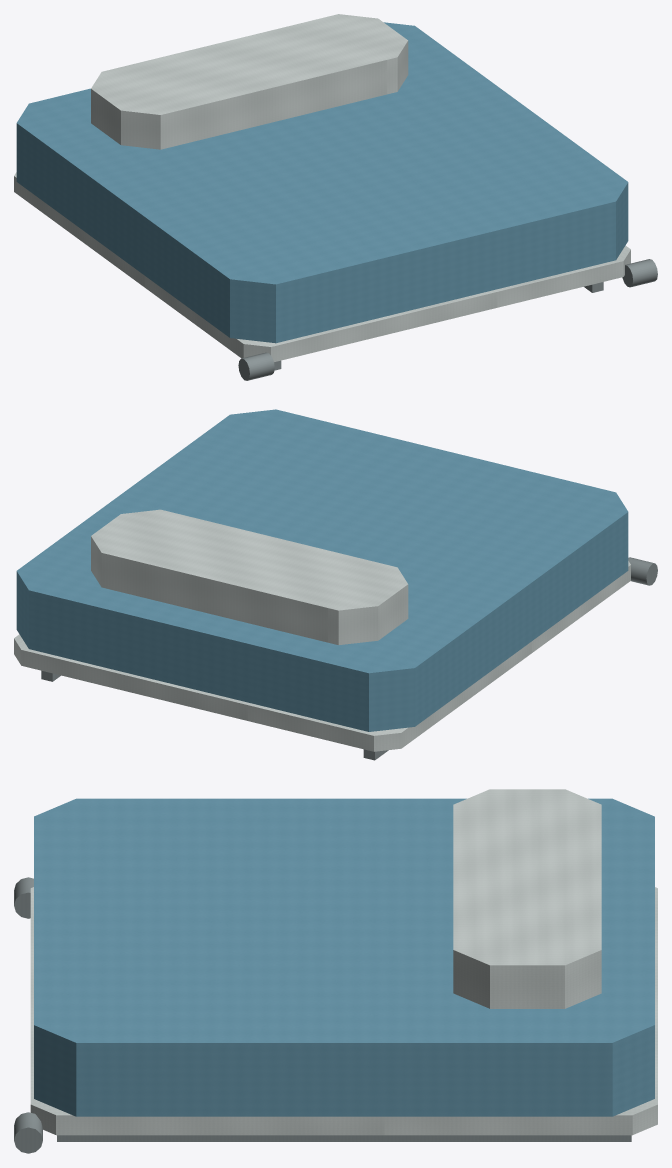
The model's file is PZ_LUCENT_H220_Backrest_LOCAL_HINGE.glb.
The picture shows the model from 3 angles, top to bottom: view 1: azimuth 30°, elevation 25°; view 2: azimuth 150°, elevation 25°; view 3: azimuth 270°, elevation 25°; orthographic projection. The views are drawn at different scales.
Parts seen in each view (by area): view 1: BED_Backrest_Mattress, BED_HeadPillow, BED_Backrest_SupportPlate, BED_Backrest_HingePin_L, BED_Backrest_HingePin_R; view 2: BED_Backrest_Mattress, BED_HeadPillow, BED_Backrest_SupportPlate, BED_Backrest_HingePin_L; view 3: BED_Backrest_Mattress, BED_HeadPillow, BED_Backrest_SupportPlate, BED_Backrest_AluminiumSupport_R, BED_Backrest_HingePin_R, BED_Backrest_HingePin_L.
Part boxes in pixels (box(x1,y1,x2,y2)): BED_Backrest_Mattress: box(16, 22, 628, 343); BED_HeadPillow: box(91, 14, 408, 149); BED_Backrest_SupportPlate: box(14, 172, 630, 362); BED_Backrest_HingePin_L: box(238, 352, 274, 380); BED_Backrest_HingePin_R: box(622, 259, 657, 287); BED_Backrest_Mattress: box(16, 409, 628, 731); BED_HeadPillow: box(91, 509, 408, 645); BED_Backrest_SupportPlate: box(14, 561, 630, 751); BED_Backrest_HingePin_L: box(628, 557, 657, 585); BED_Backrest_Mattress: box(34, 798, 654, 1116); BED_HeadPillow: box(453, 789, 601, 1008); BED_Backrest_SupportPlate: box(30, 887, 657, 1135); BED_Backrest_AluminiumSupport_R: box(57, 1135, 631, 1141); BED_Backrest_HingePin_R: box(14, 1112, 42, 1153); BED_Backrest_HingePin_L: box(14, 877, 33, 918).
Bounding box in the file's own units: 0.937 × 0.284 × 1.02.
Materials: 3 (3 with a texture image).
